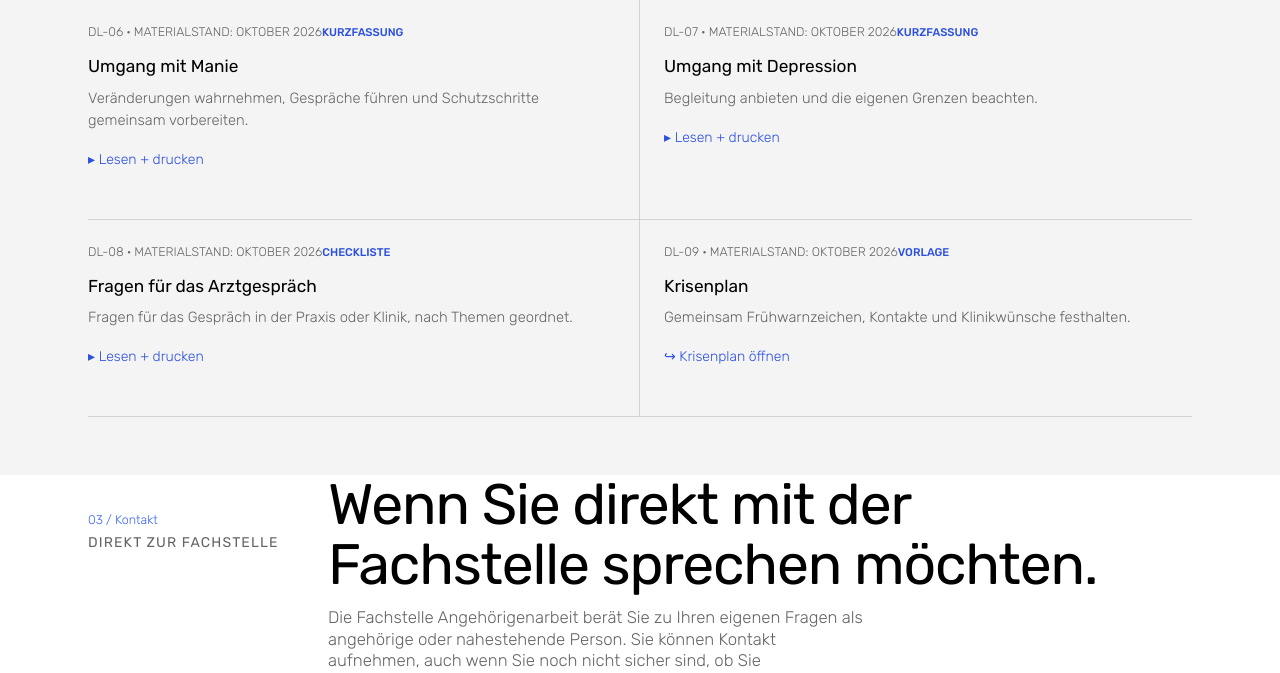
Test: UnterstuetzungPage counselling and material boundaries › separates sharing observations from receiving confidential treatment information
(page scrolled)
What coordinates should you click on to do the following:
click the button "Fragen für das Arztgespräch"
I would click on:
 (364, 319)
Its box is left=88, top=220, right=640, bottom=418.
(page scrolled)
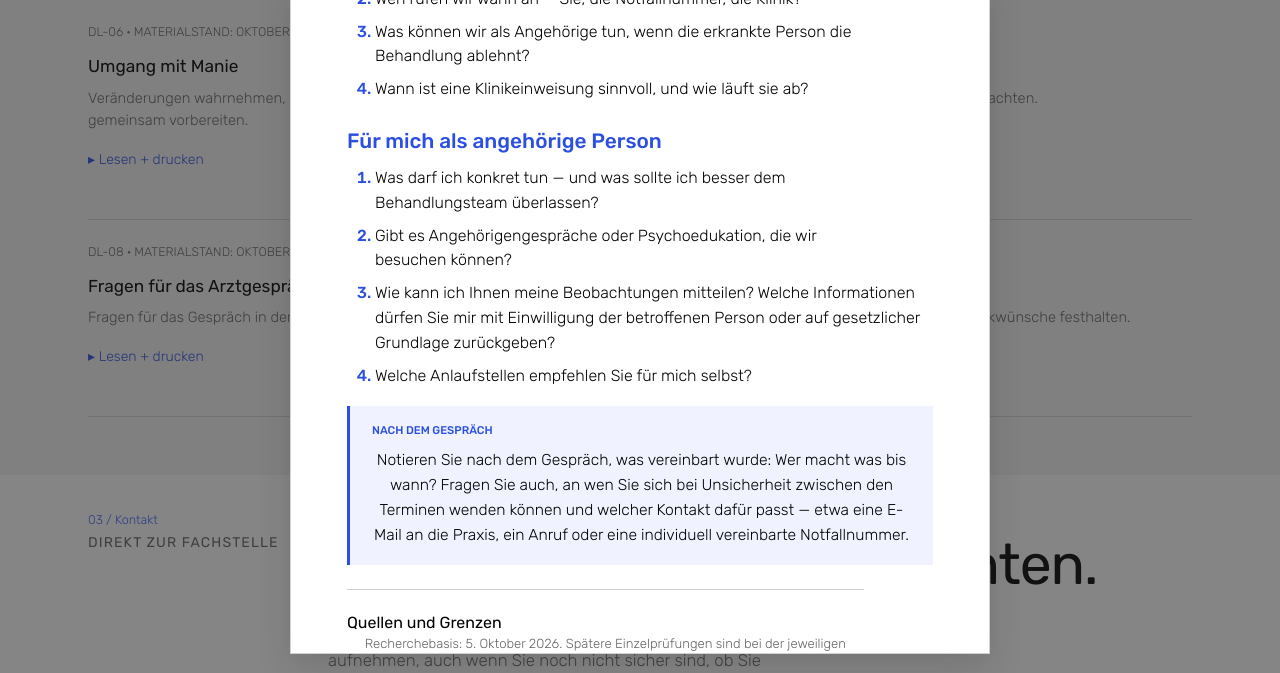
Expected: the list item "Wie kann ich Ihnen meine Beobachtungen mitteilen? Welche Informationen dürfen Sie mir" is shown, left=375, top=283, right=920, bottom=352
